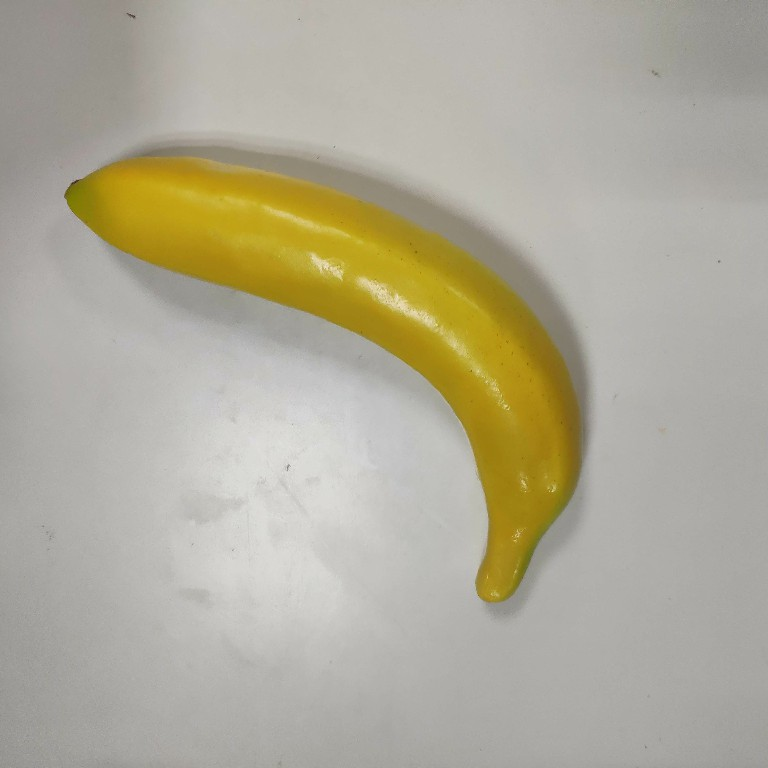fruit_banana: (58, 148, 588, 608)
